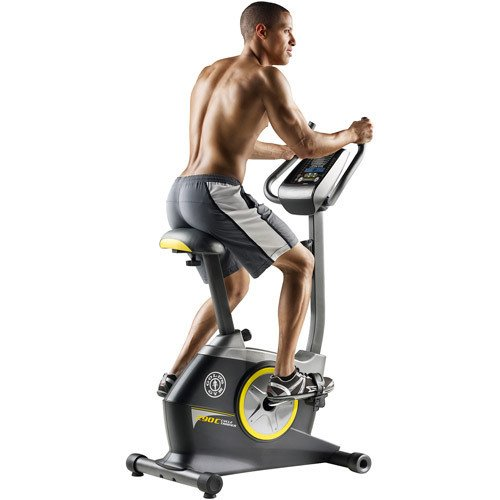gym_bike: (127, 120, 384, 494)
